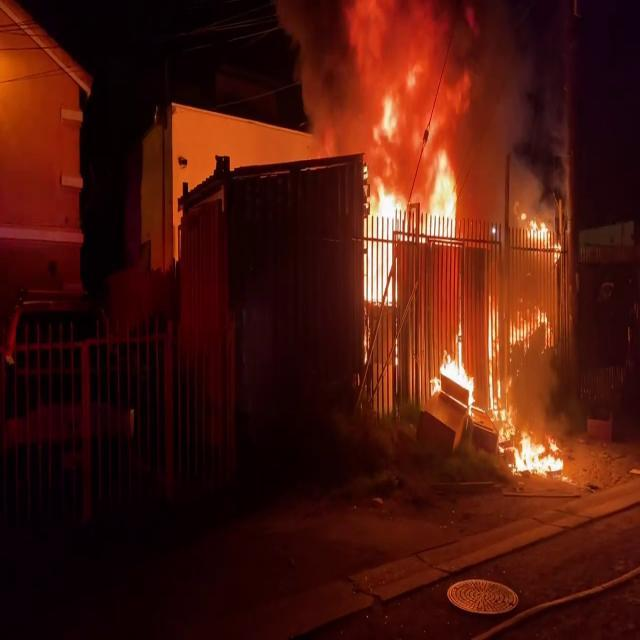Fire: (359, 150, 464, 298), (509, 422, 567, 479), (430, 350, 477, 420)
Smoke: (265, 0, 547, 172)
